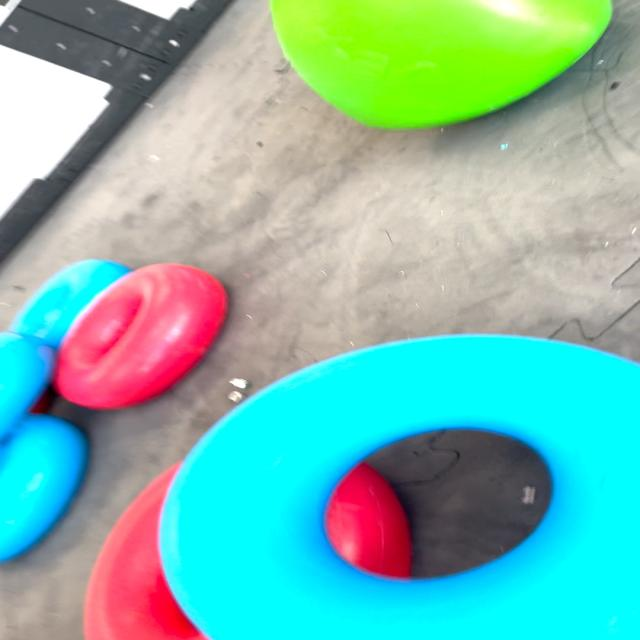Blue-Ring: (158, 335, 638, 640), (0, 414, 89, 561), (9, 259, 131, 348), (0, 331, 53, 437)
Red-Ring: (53, 264, 227, 409)
